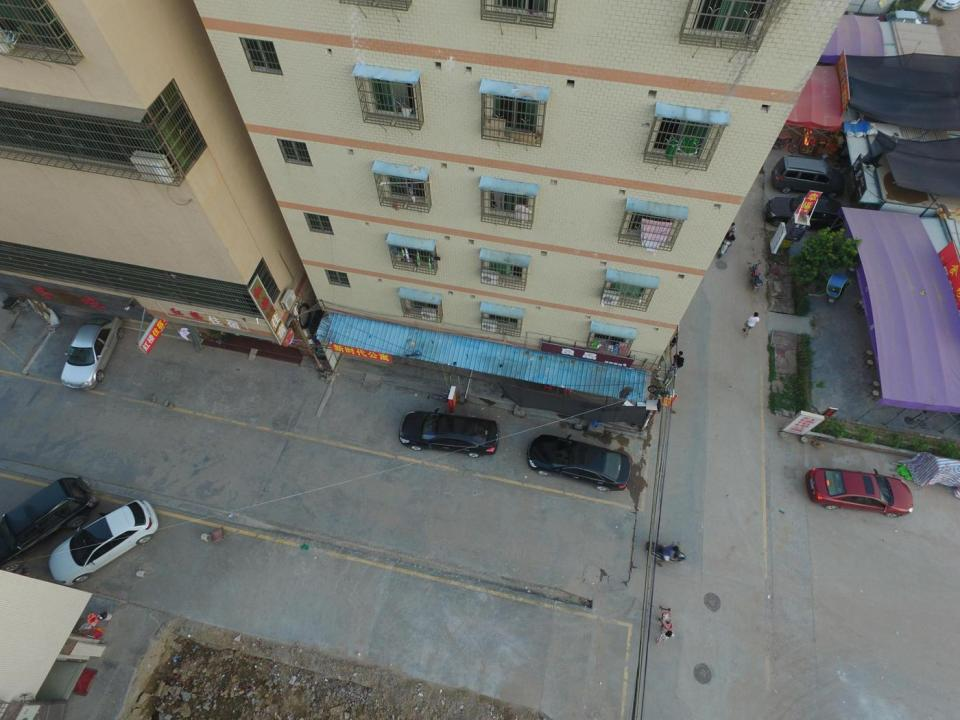car: (49, 499, 159, 587), (528, 433, 631, 492), (806, 468, 914, 519), (60, 313, 125, 391), (400, 408, 498, 458), (765, 194, 846, 231)
van: (0, 476, 98, 570), (771, 155, 845, 197)
